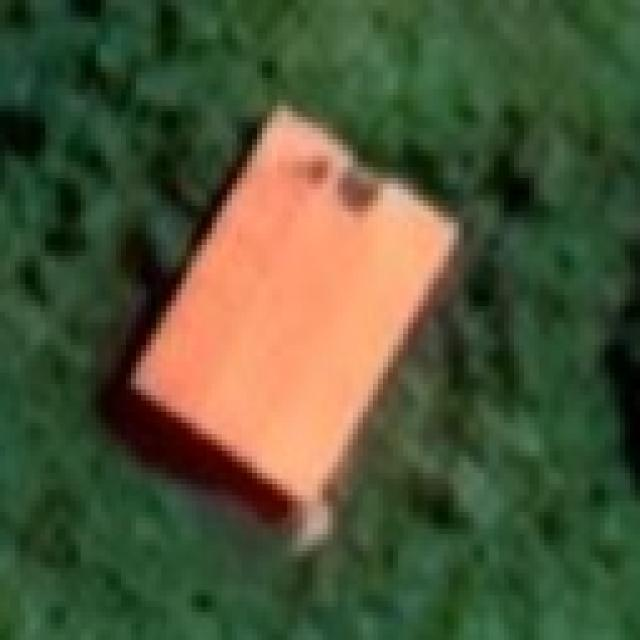Batiment: (105, 108, 459, 540)
